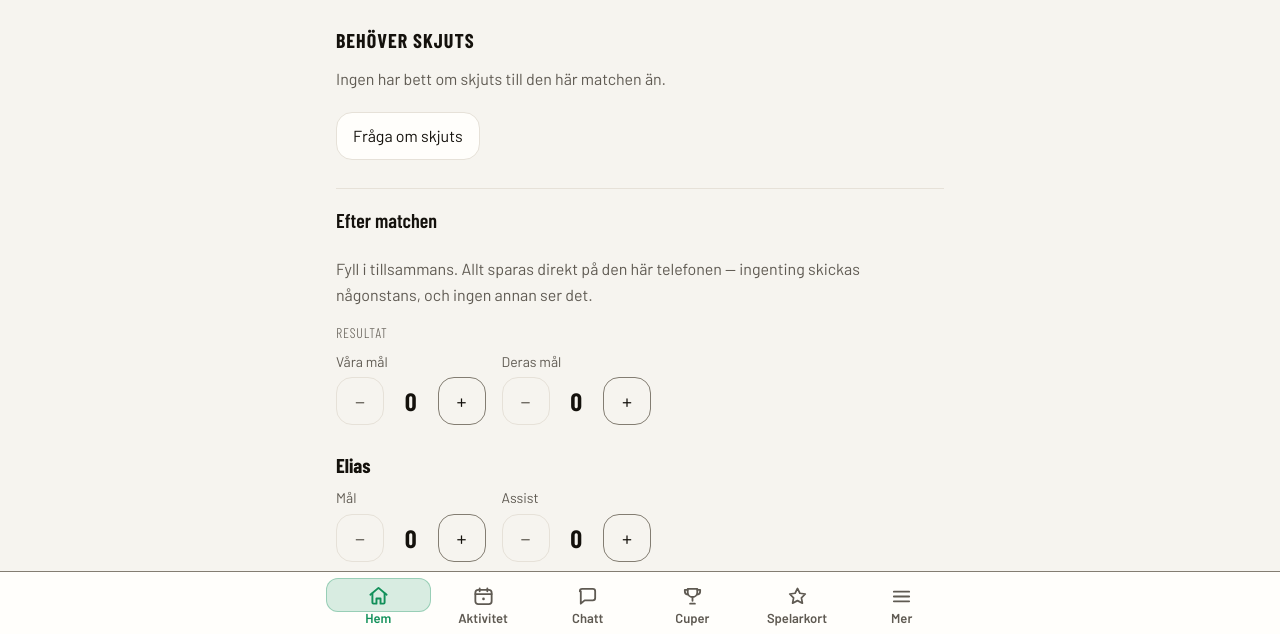
Scenario: firandet sker när märket låses upp › firar nästa märke också
(page scrolled)
Step 1. Click the button named "Öka Mål — Elias" → coordinates (462, 538), box top-left (438, 514), bottom-right (486, 562)
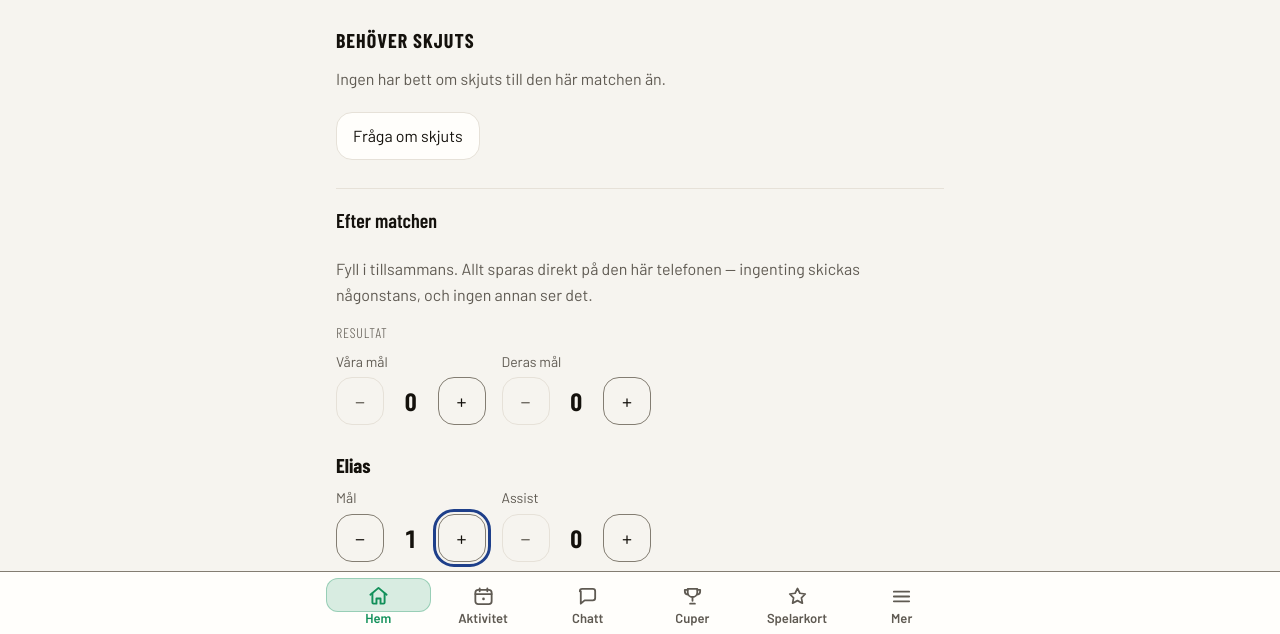
Step 2. Click the button named "Öka Mål — Elias" → coordinates (462, 538), box top-left (438, 514), bottom-right (486, 562)
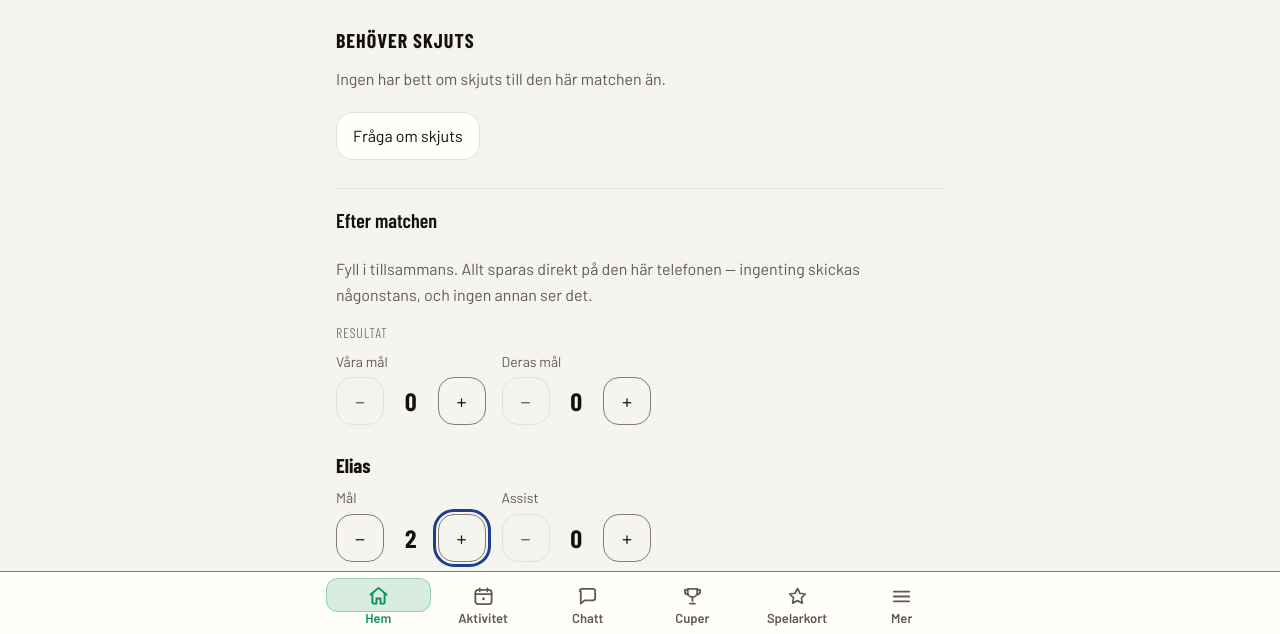
Step 3. Click the button named "Öka Mål — Elias" → coordinates (462, 538), box top-left (438, 514), bottom-right (486, 562)
(page scrolled)
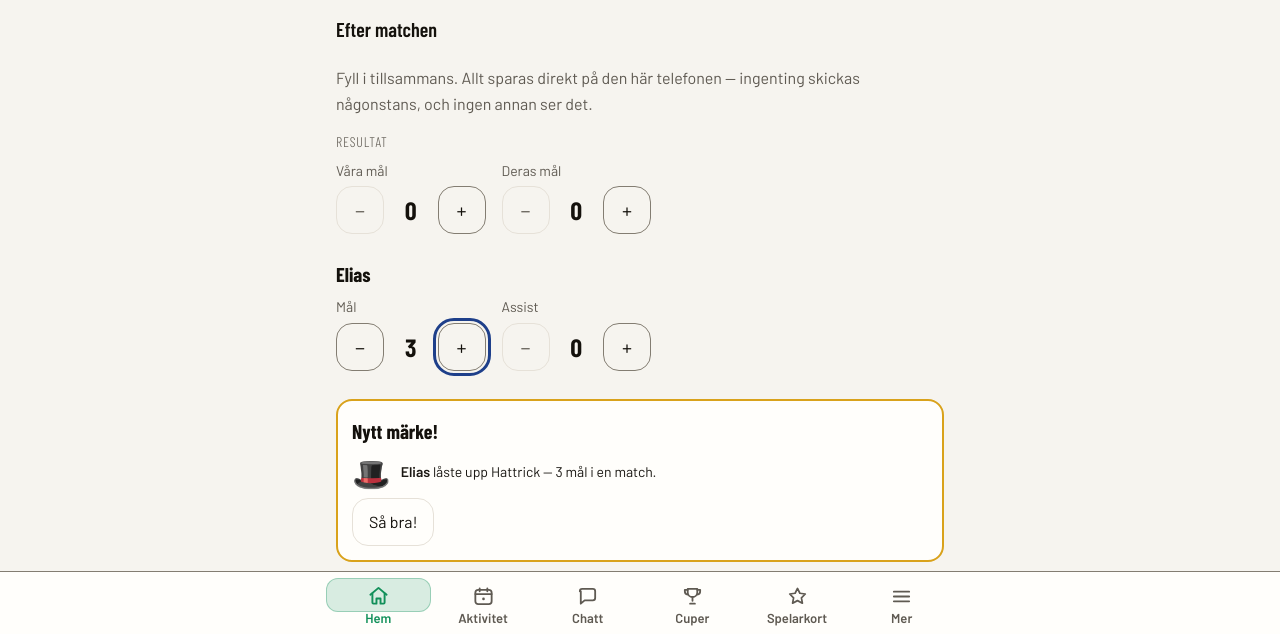
expect the text "Elias låste upp Hattrick — 3 mål i en match." is shown: met, box top-left (401, 461), bottom-right (656, 483)
